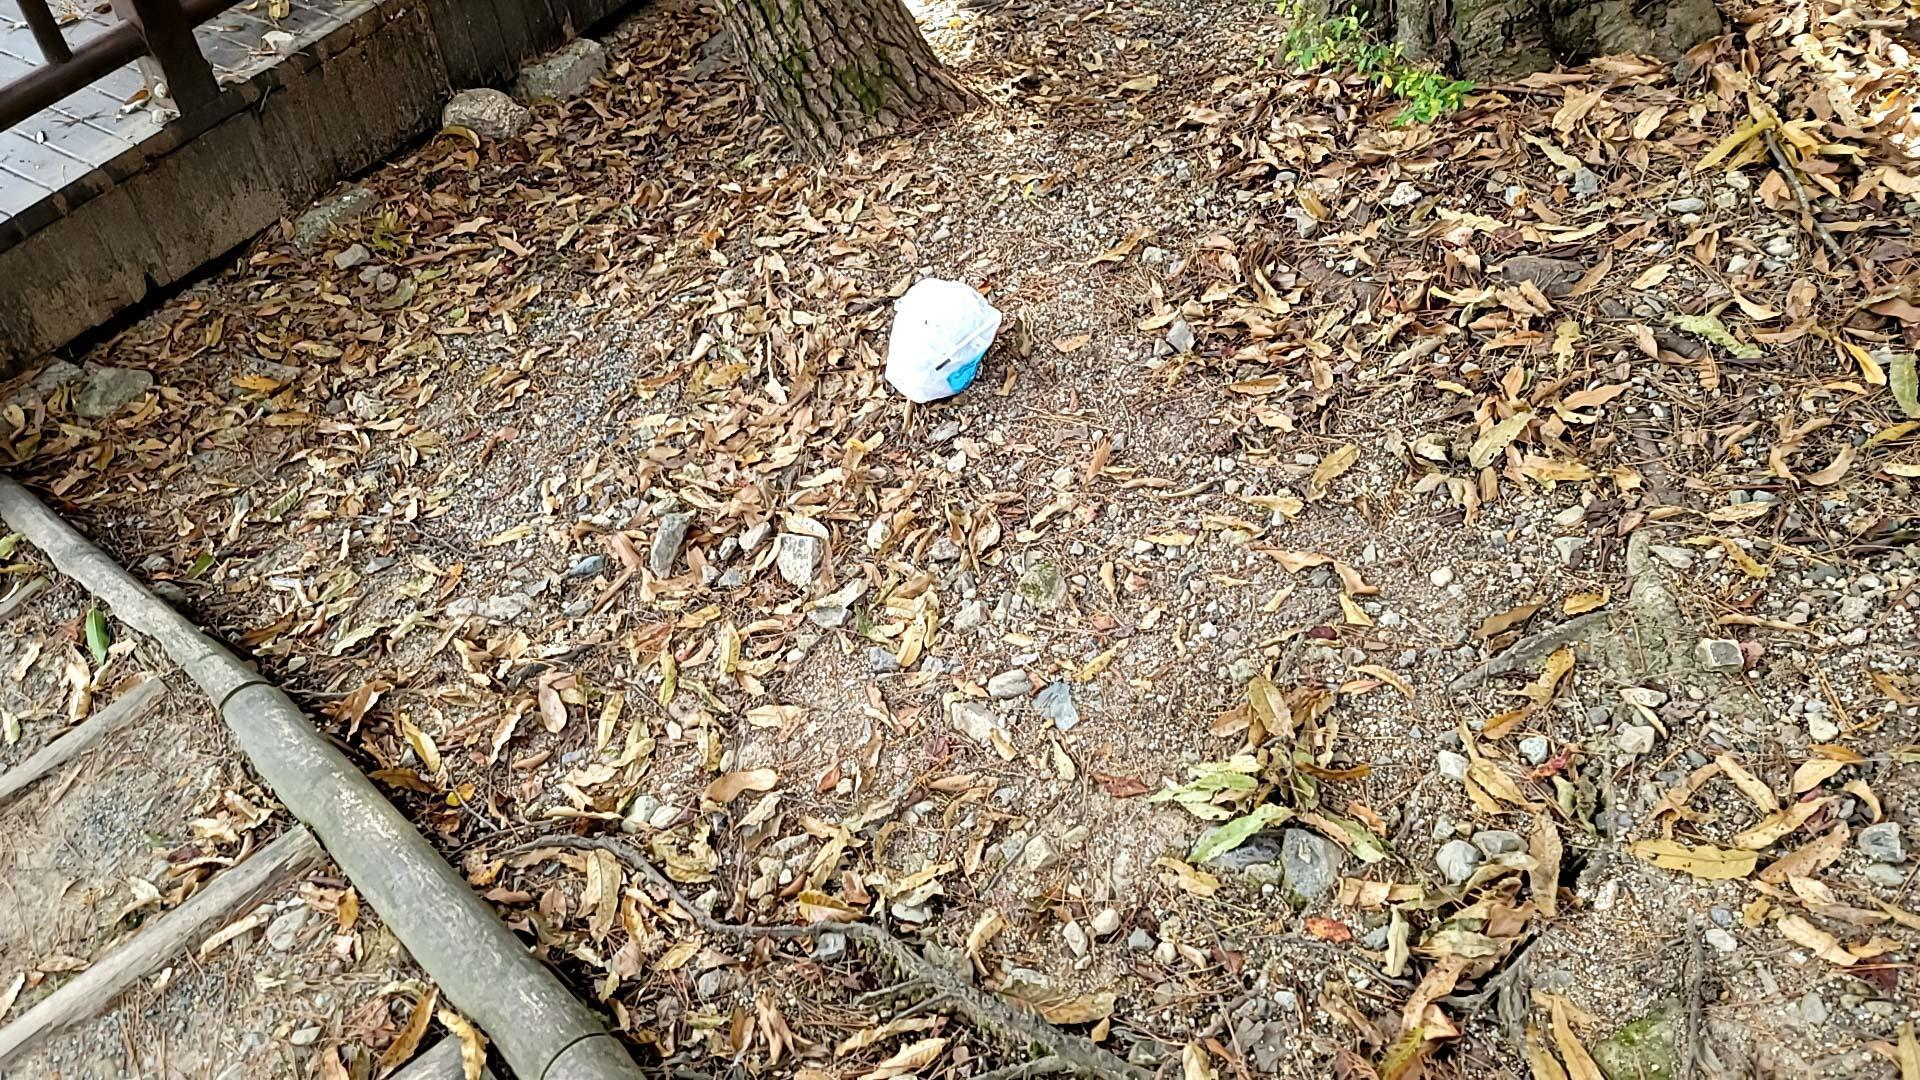white_bag: (866, 273, 1009, 418)
